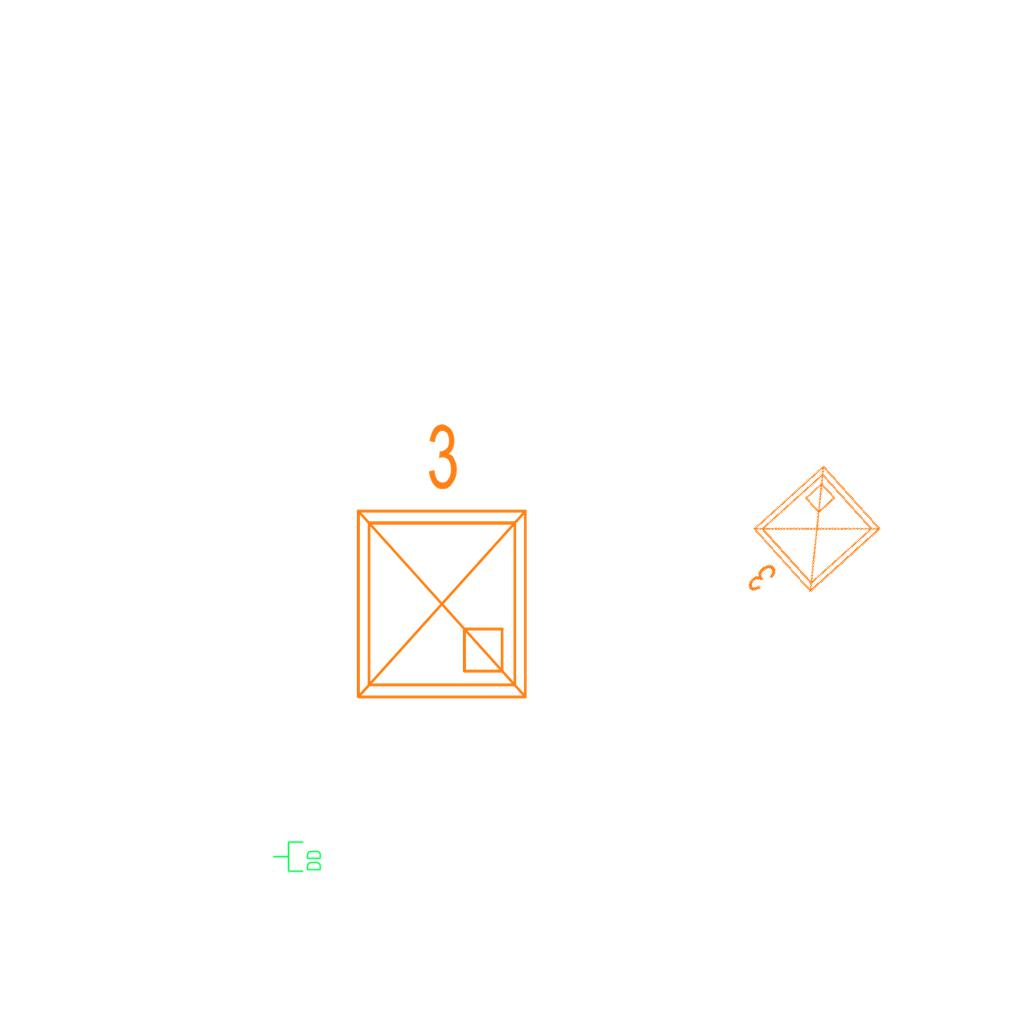Datenanschluss_zweifach: (272, 840, 323, 874)
Einbaudownlights_LED_Konferenzraeume: (334, 413, 542, 713), (712, 455, 894, 633)
